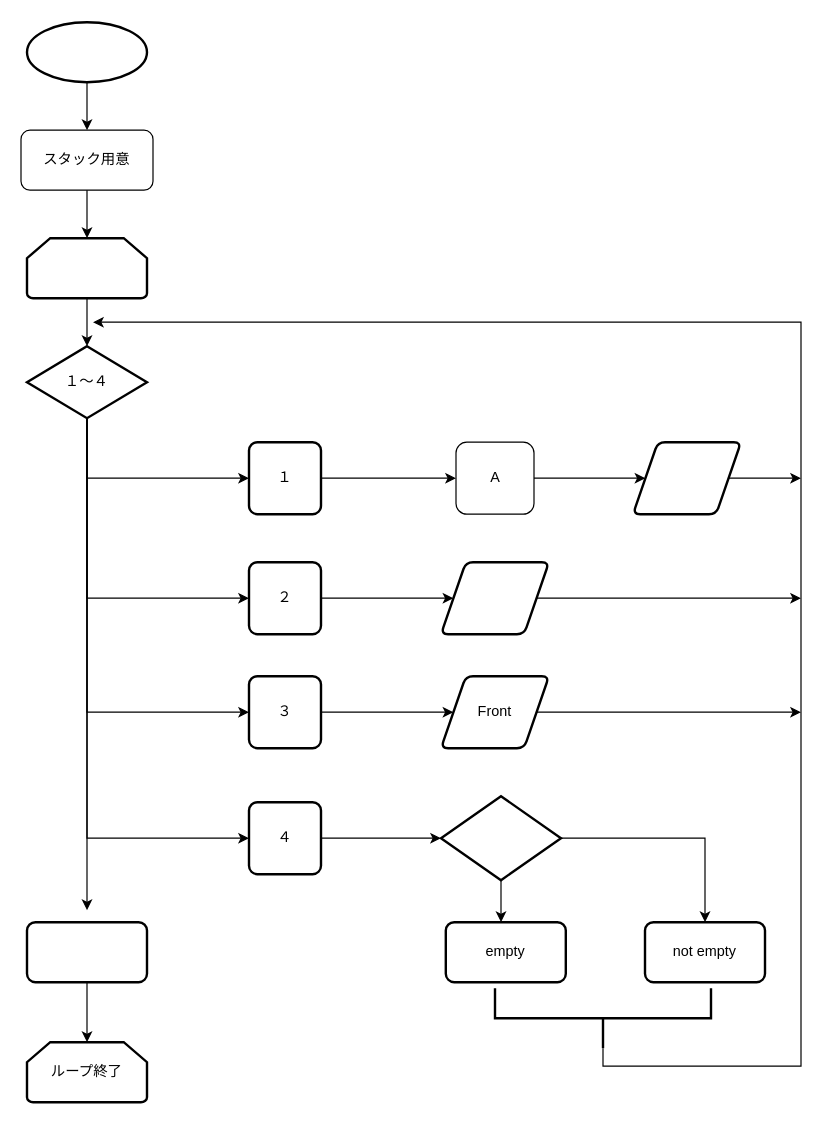
The diagram is 832 pixels wide and 1123 high, and some of its shapes have lost their labels. Here are the shapes that lost their labels. From the top down, the box of each, then its label:
(25, 20, 148, 83): 開始
(25, 236, 148, 299): モード選択
(631, 440, 742, 515): Enqueue
(439, 560, 550, 635): Deqeue
(439, 794, 562, 881): IsEmpty
(25, 920, 148, 983): １〜４以外
